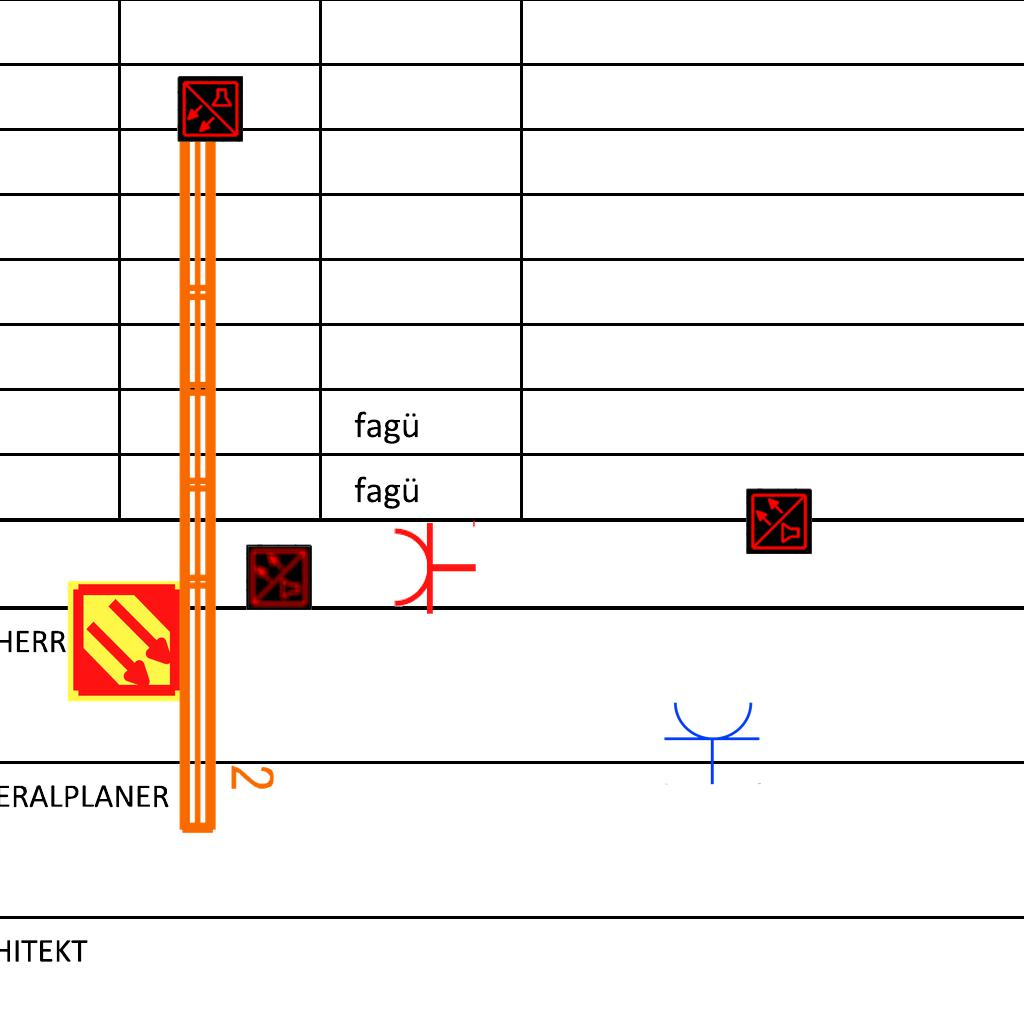ASR_Ansaugrauchmelder: (64, 579, 189, 704)
Ambulanz_Pendelleuchte_LED: (167, 68, 279, 842)
OKW_Multisensormelder_(Kombination_optischer_Rauch-Kahlenmonoxid_Waerme-Melder): (246, 544, 312, 610), (746, 488, 812, 554), (177, 76, 243, 142)
Schukosteckdose_einfach: (391, 516, 478, 616), (663, 698, 763, 785)
